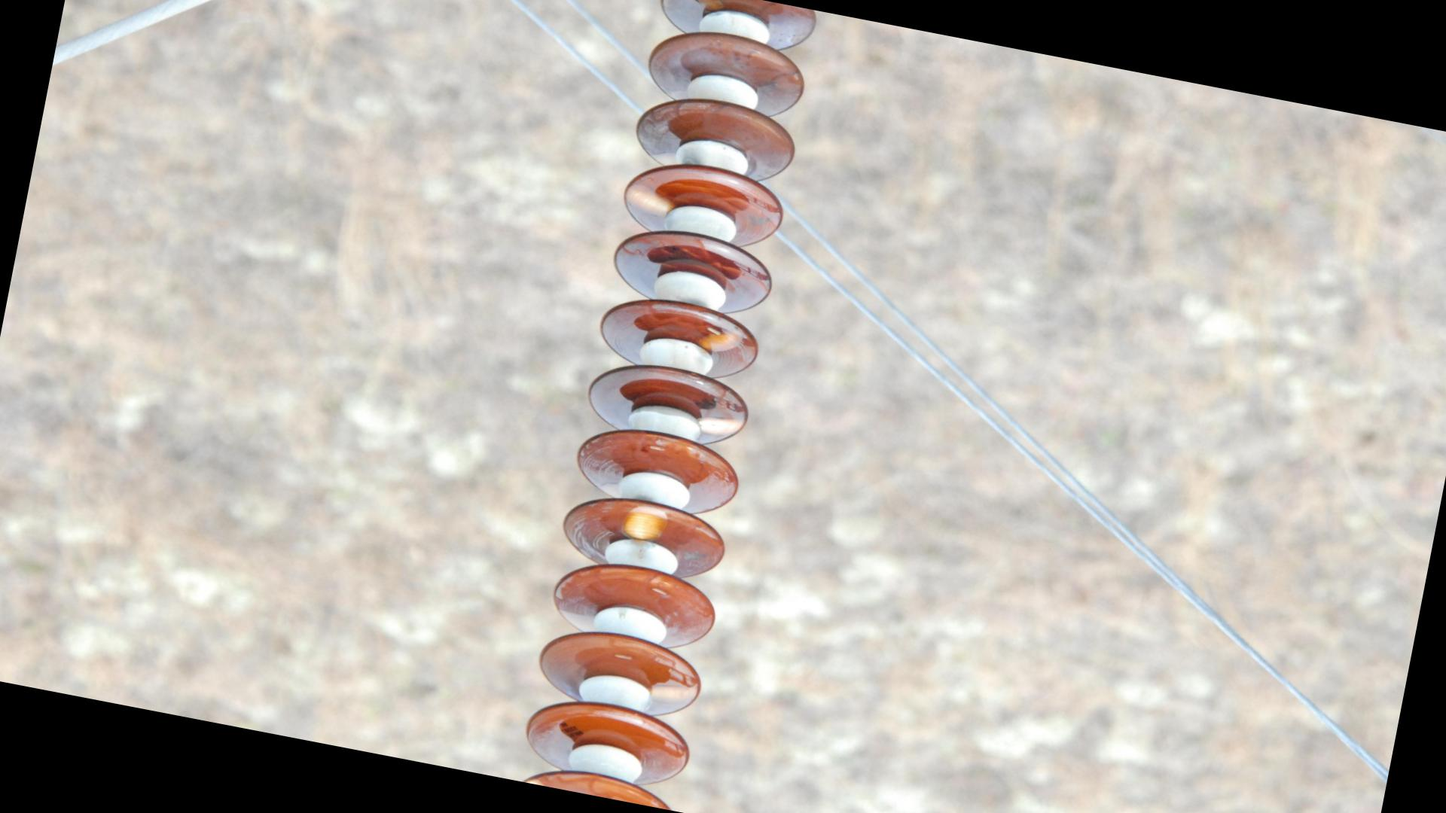damper: (144, 1, 361, 25)
